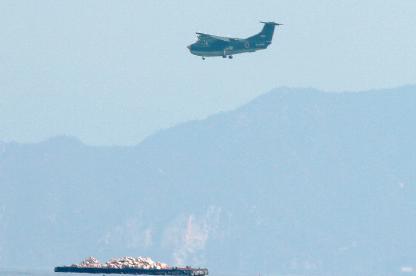Tu95: (186, 20, 284, 59)
